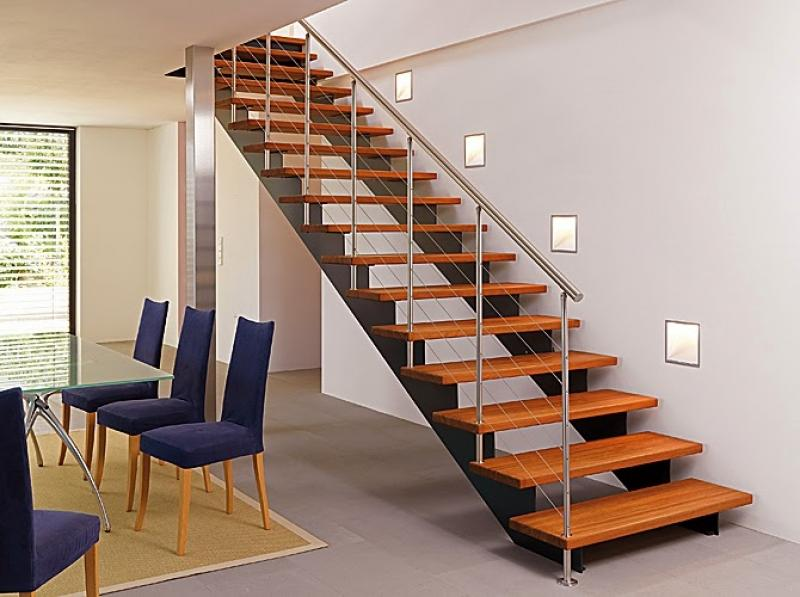Bench: (197, 43, 719, 532)
